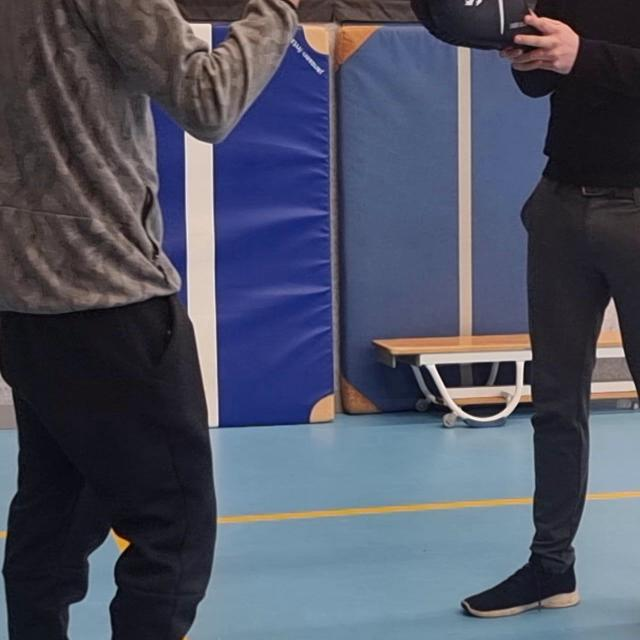paddle: (408, 0, 541, 52)
